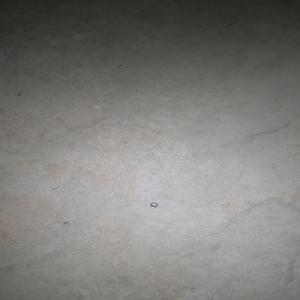Nut: (148, 202, 158, 208)
